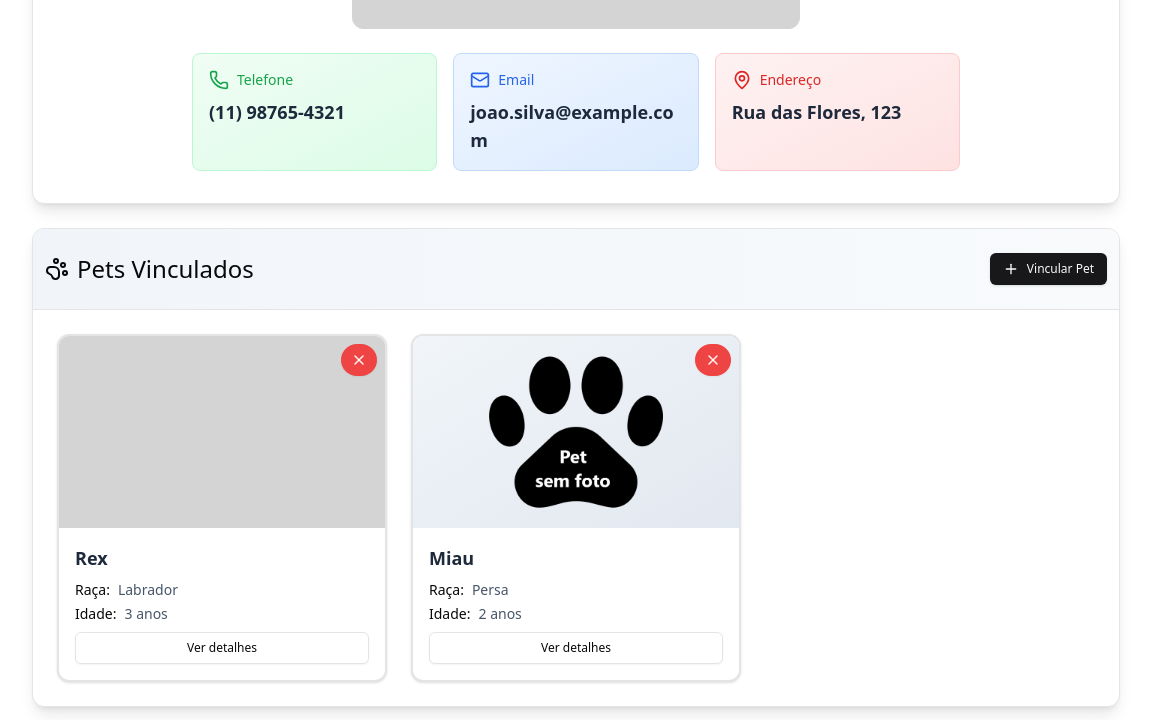
Scenario: TutorDetail › remove vínculo e atualiza UI
(page scrolled)
Expected: the heading "Rex" is shown, x1=75 y1=546 x2=108 y2=570
Expected: the heading "Miau" is shown, x1=429 y1=546 x2=474 y2=570
Clica no botão de desvincular do primeiro pet (Rex)
Click the 2nd button.
click(359, 360)  # box x1=341 y1=344 x2=377 y2=376
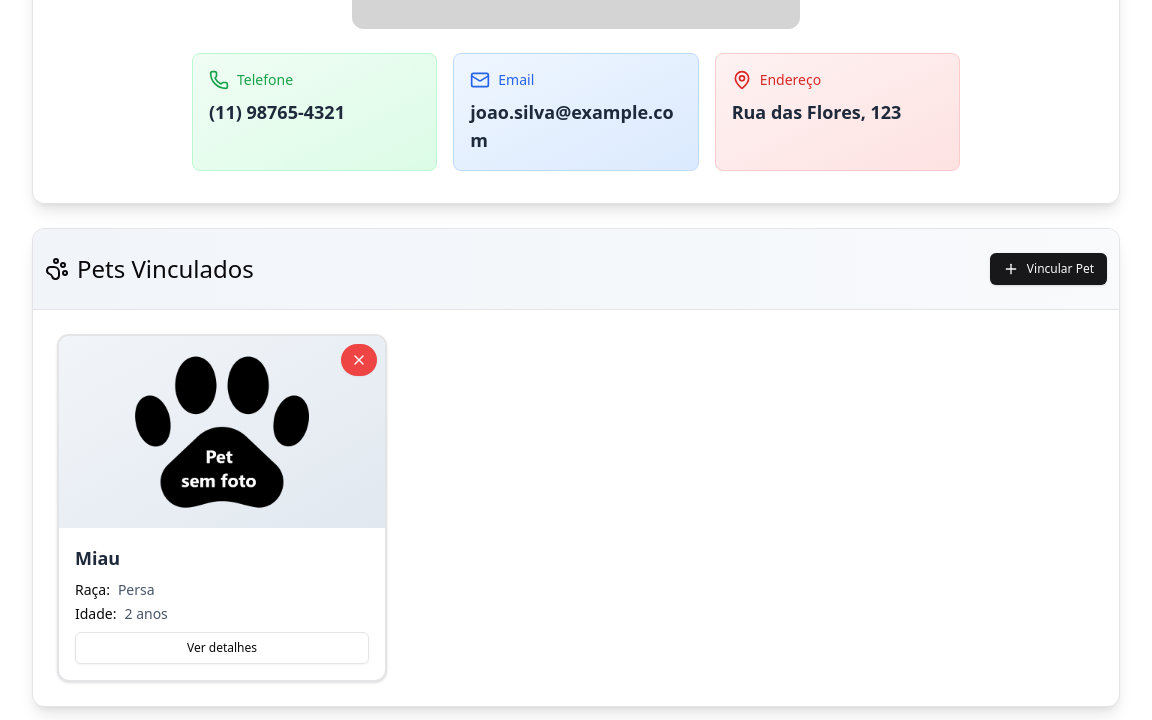
Expected: the heading "Miau" is shown, x1=75 y1=546 x2=120 y2=570
Expected: the heading "Rex" is gone
